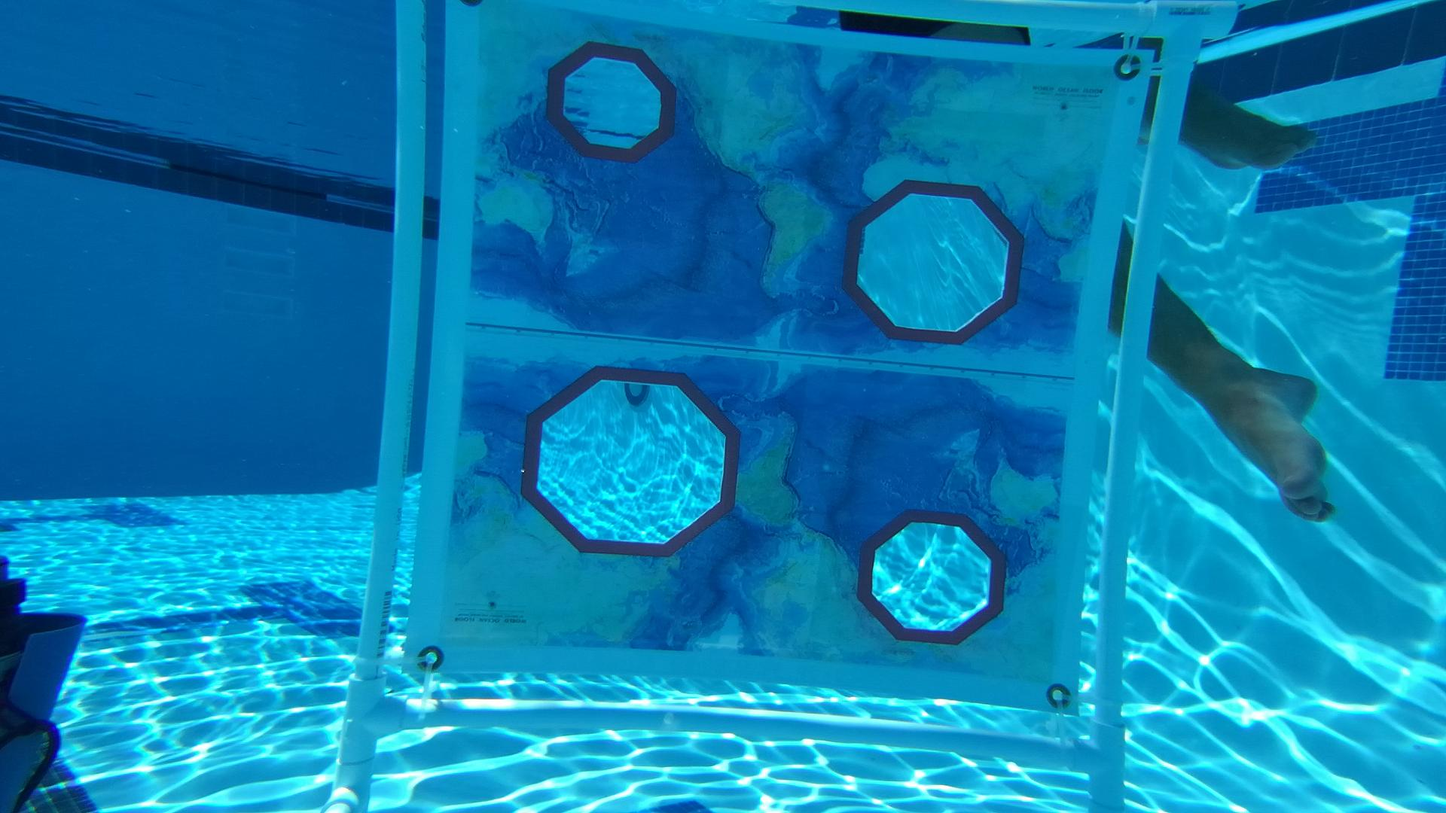red octagon: (518, 366, 739, 561), (840, 176, 1027, 346), (855, 507, 1008, 646), (538, 44, 674, 162)
